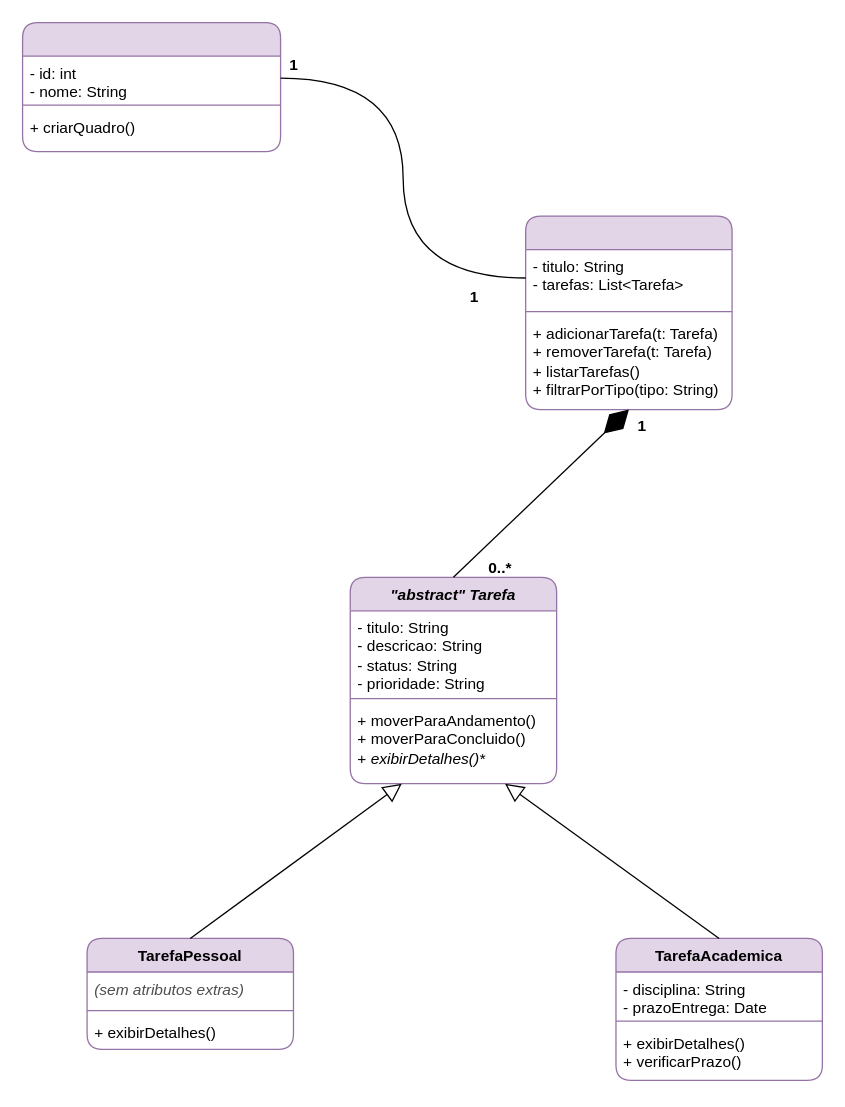
Image size: 845x1107. Some labels were removed from this diagram. The shapes that lost their labels are listed below. From the top down, each one's box as (x1, y1, x2, y2) in pixels, then its label:
(21, 21, 281, 152): Usuario
(524, 215, 732, 410): Quadro
